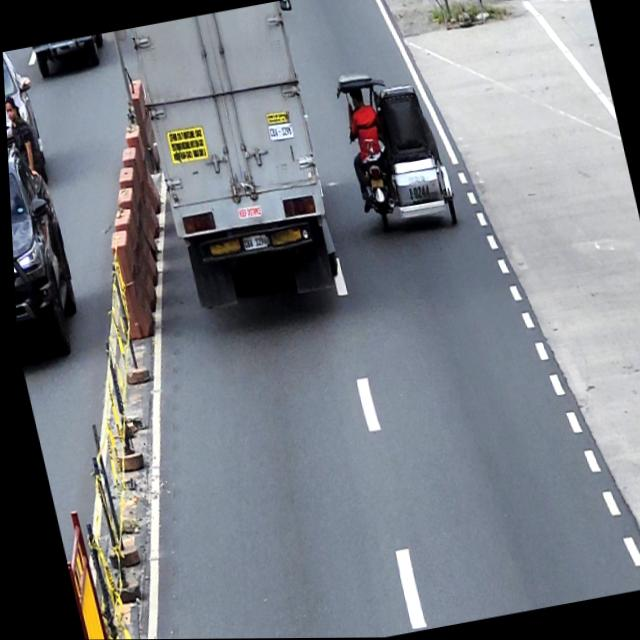Car: (6, 138, 85, 362), (2, 48, 51, 193), (25, 33, 108, 80), (487, 0, 589, 11)
License-Plate: (237, 229, 268, 253), (368, 177, 382, 189)
Tricycle: (330, 60, 458, 241)
Truck: (118, 0, 354, 326)
